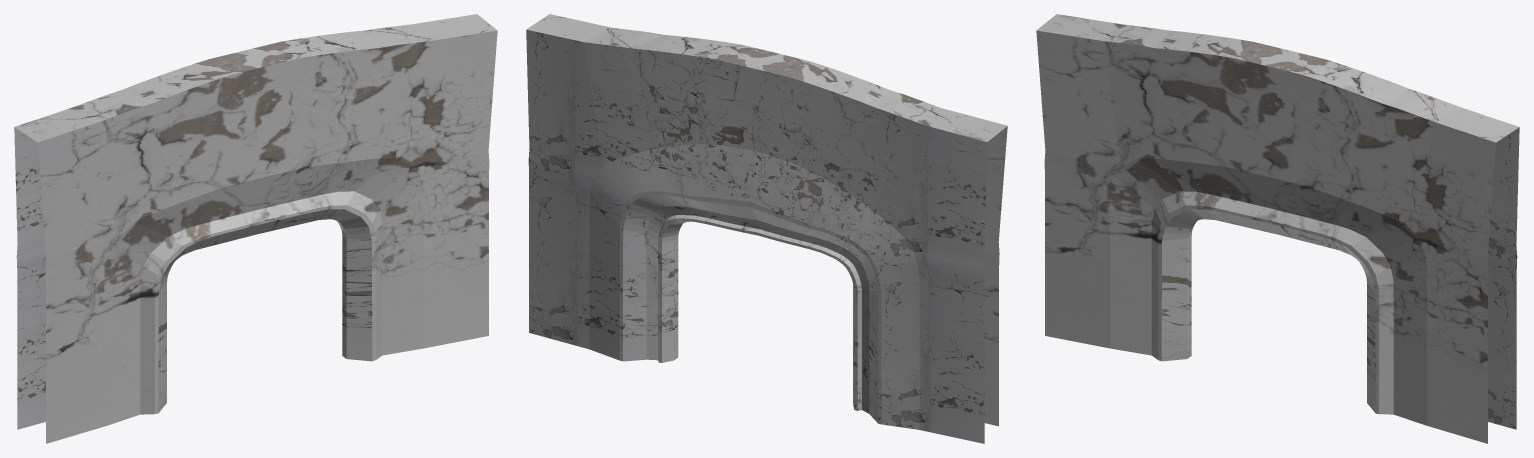
File: Environment_UVWRAPPED.fbx
The picture shows the model from 3 angles, left to right: view 1: azimuth 30°, elevation 25°; view 2: azimuth 150°, elevation 25°; view 3: azimuth 330°, elevation 25°; orthographic projection.
Visible parts, largest first — view 1: Arch/Stage; view 2: Arch/Stage; view 3: Arch/Stage.
Boxes of the visible parts, x1,y1,x2,y2 form: Arch/Stage: (14, 14, 497, 443); Arch/Stage: (526, 14, 1007, 443); Arch/Stage: (1036, 14, 1519, 443).
Size of the model in its own units: 4804 by 3194 by 506.
